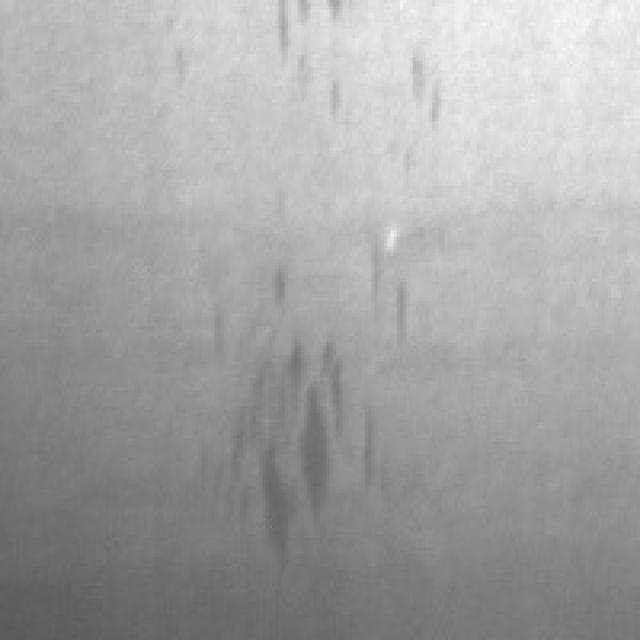inclusion: (205, 256, 371, 573)
